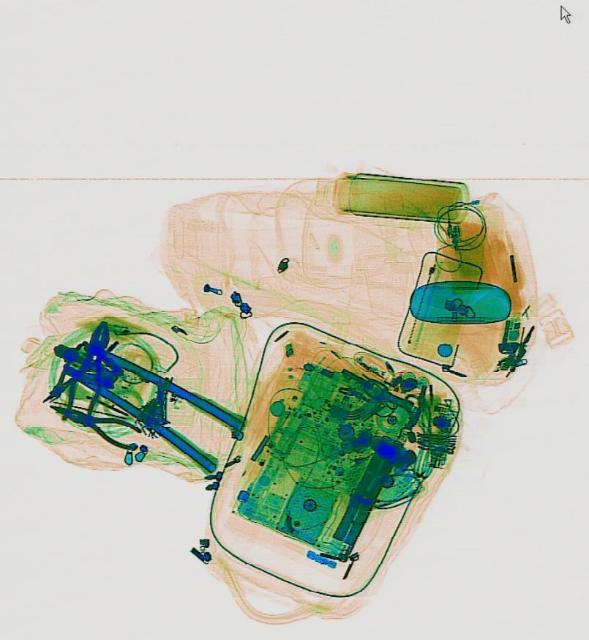Pliers: (55, 314, 120, 426), (43, 391, 145, 453)
